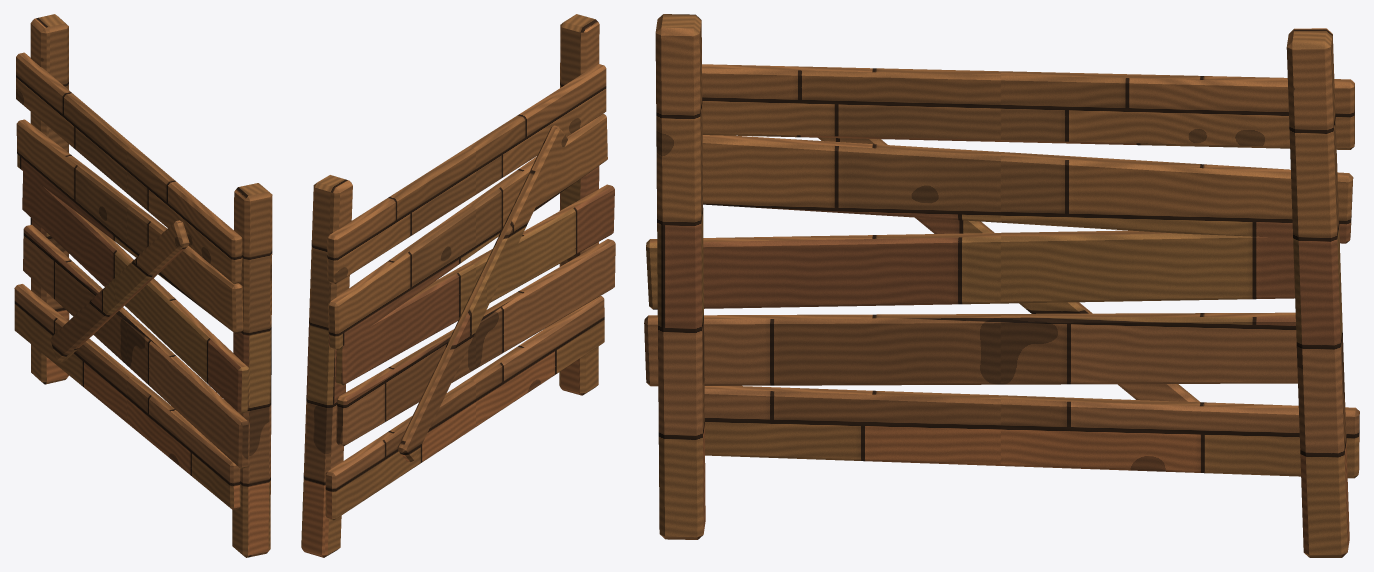
Rendered from Prop_Fence_R.fbx.
The picture shows the model from 3 angles, left to right: view 1: azimuth 30°, elevation 25°; view 2: azimuth 150°, elevation 25°; view 3: azimuth 270°, elevation 25°; orthographic projection. The views are drawn at different scales.
Visible parts, largest first — view 1: Prop_Fence_R; view 2: Prop_Fence_R; view 3: Prop_Fence_R.
Part boxes in pixels (<box>): Prop_Fence_R: <box>14,14,272,557</box>; Prop_Fence_R: <box>301,14,615,557</box>; Prop_Fence_R: <box>644,14,1359,557</box>.
Size of the model in its own units: 0.2362 by 1.15 by 1.46.
1 material, 1 textured.
